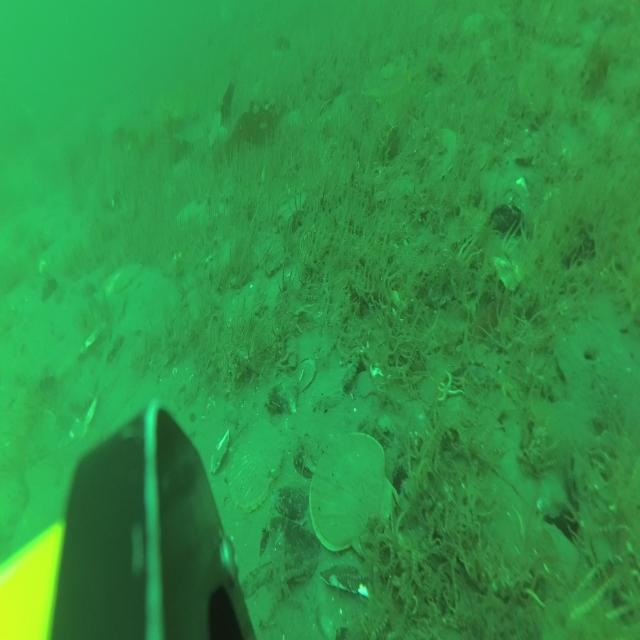scallop: (311, 433, 399, 564), (230, 418, 284, 511), (420, 128, 460, 184), (95, 259, 143, 296), (174, 198, 206, 225)
